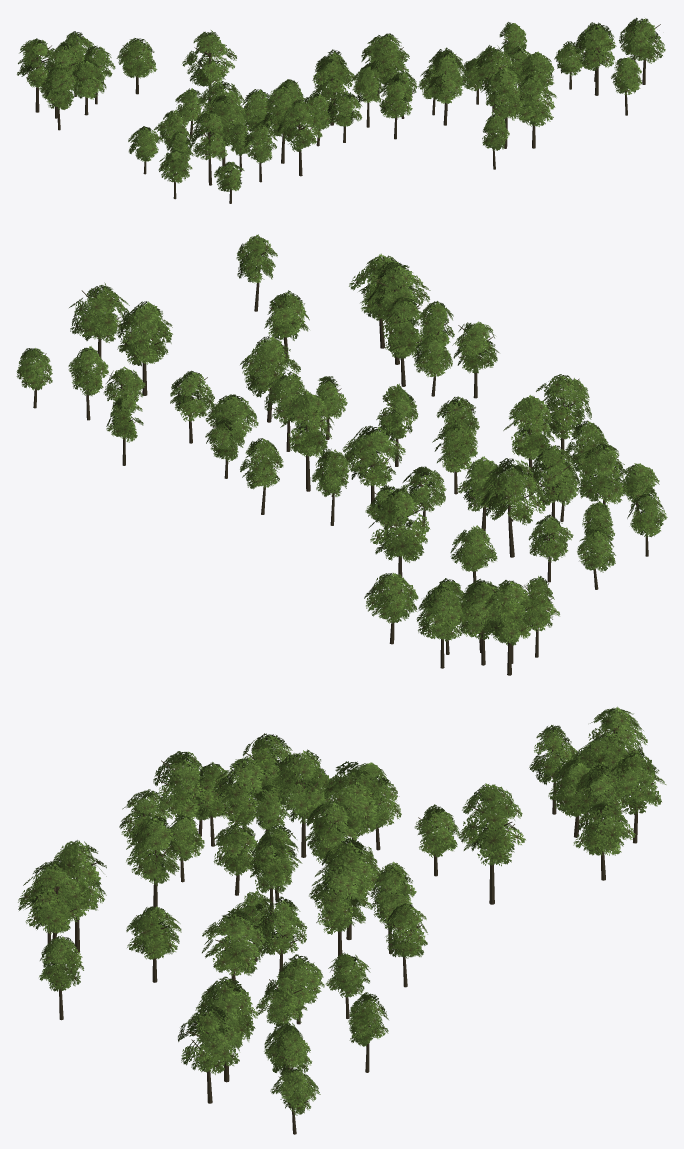
File: TRB8-FOREST-CHUNK-2-5.glb
3 renders of one model, top to bottom at view 1: azimuth 30°, elevation 25°; view 2: azimuth 150°, elevation 25°; view 3: azimuth 270°, elevation 25°, orthographic. The views are drawn at different scales.
Parts seen in each view (by area): view 1: TRB8-FOREST-CHUNK-2-5; view 2: TRB8-FOREST-CHUNK-2-5; view 3: TRB8-FOREST-CHUNK-2-5.
Part boxes in pixels (x1=…): TRB8-FOREST-CHUNK-2-5: x1=17, y1=17, x2=665, y2=203; TRB8-FOREST-CHUNK-2-5: x1=16, y1=234, x2=667, y2=675; TRB8-FOREST-CHUNK-2-5: x1=18, y1=706, x2=666, y2=1134.
Bounding box in the file's own units: 41.49 × 9 × 32.1.
2 materials, 1 textured.
